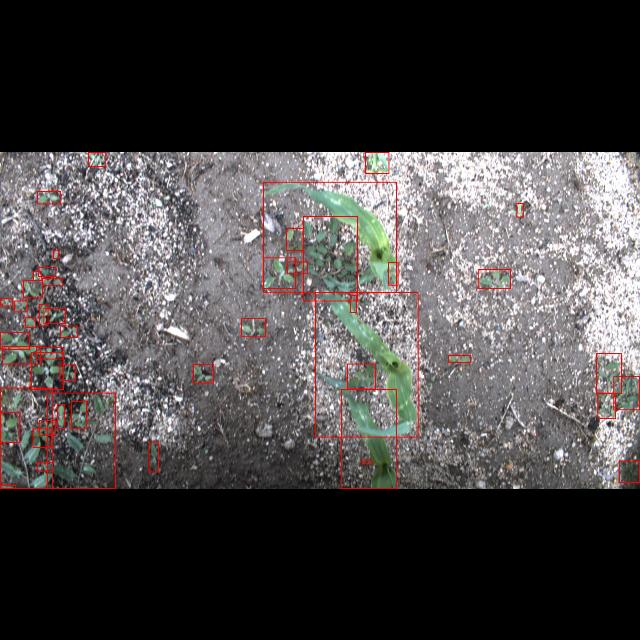crop: (263, 182, 397, 292), (316, 292, 418, 436), (342, 389, 396, 488), (365, 152, 389, 172)
weed: (47, 392, 115, 488), (1, 388, 53, 488), (303, 216, 357, 300), (31, 352, 63, 388), (596, 353, 622, 393), (263, 256, 295, 288), (614, 376, 640, 409), (2, 346, 40, 364), (347, 364, 375, 388), (478, 268, 510, 288), (0, 412, 20, 442), (598, 392, 616, 418), (1, 332, 30, 348), (242, 318, 266, 336), (619, 461, 639, 482), (286, 227, 304, 249), (72, 400, 86, 428), (193, 363, 213, 382), (33, 428, 51, 448), (23, 279, 42, 297), (37, 346, 63, 358), (44, 308, 66, 322), (149, 442, 159, 472), (38, 190, 61, 203), (60, 364, 76, 380), (40, 420, 56, 436), (88, 152, 106, 166), (287, 261, 307, 273), (38, 304, 48, 326), (388, 262, 398, 284), (61, 325, 78, 337), (57, 404, 65, 428), (38, 266, 56, 276), (448, 354, 470, 362), (42, 277, 62, 285), (15, 300, 27, 312), (37, 462, 53, 471), (350, 294, 356, 312), (25, 317, 35, 327), (0, 297, 12, 305), (517, 202, 523, 216), (33, 270, 41, 280), (362, 460, 372, 464), (54, 250, 58, 258), (1, 486, 16, 488)
